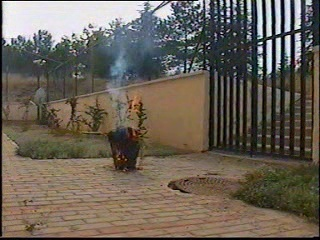smoke: (101, 28, 146, 97)
